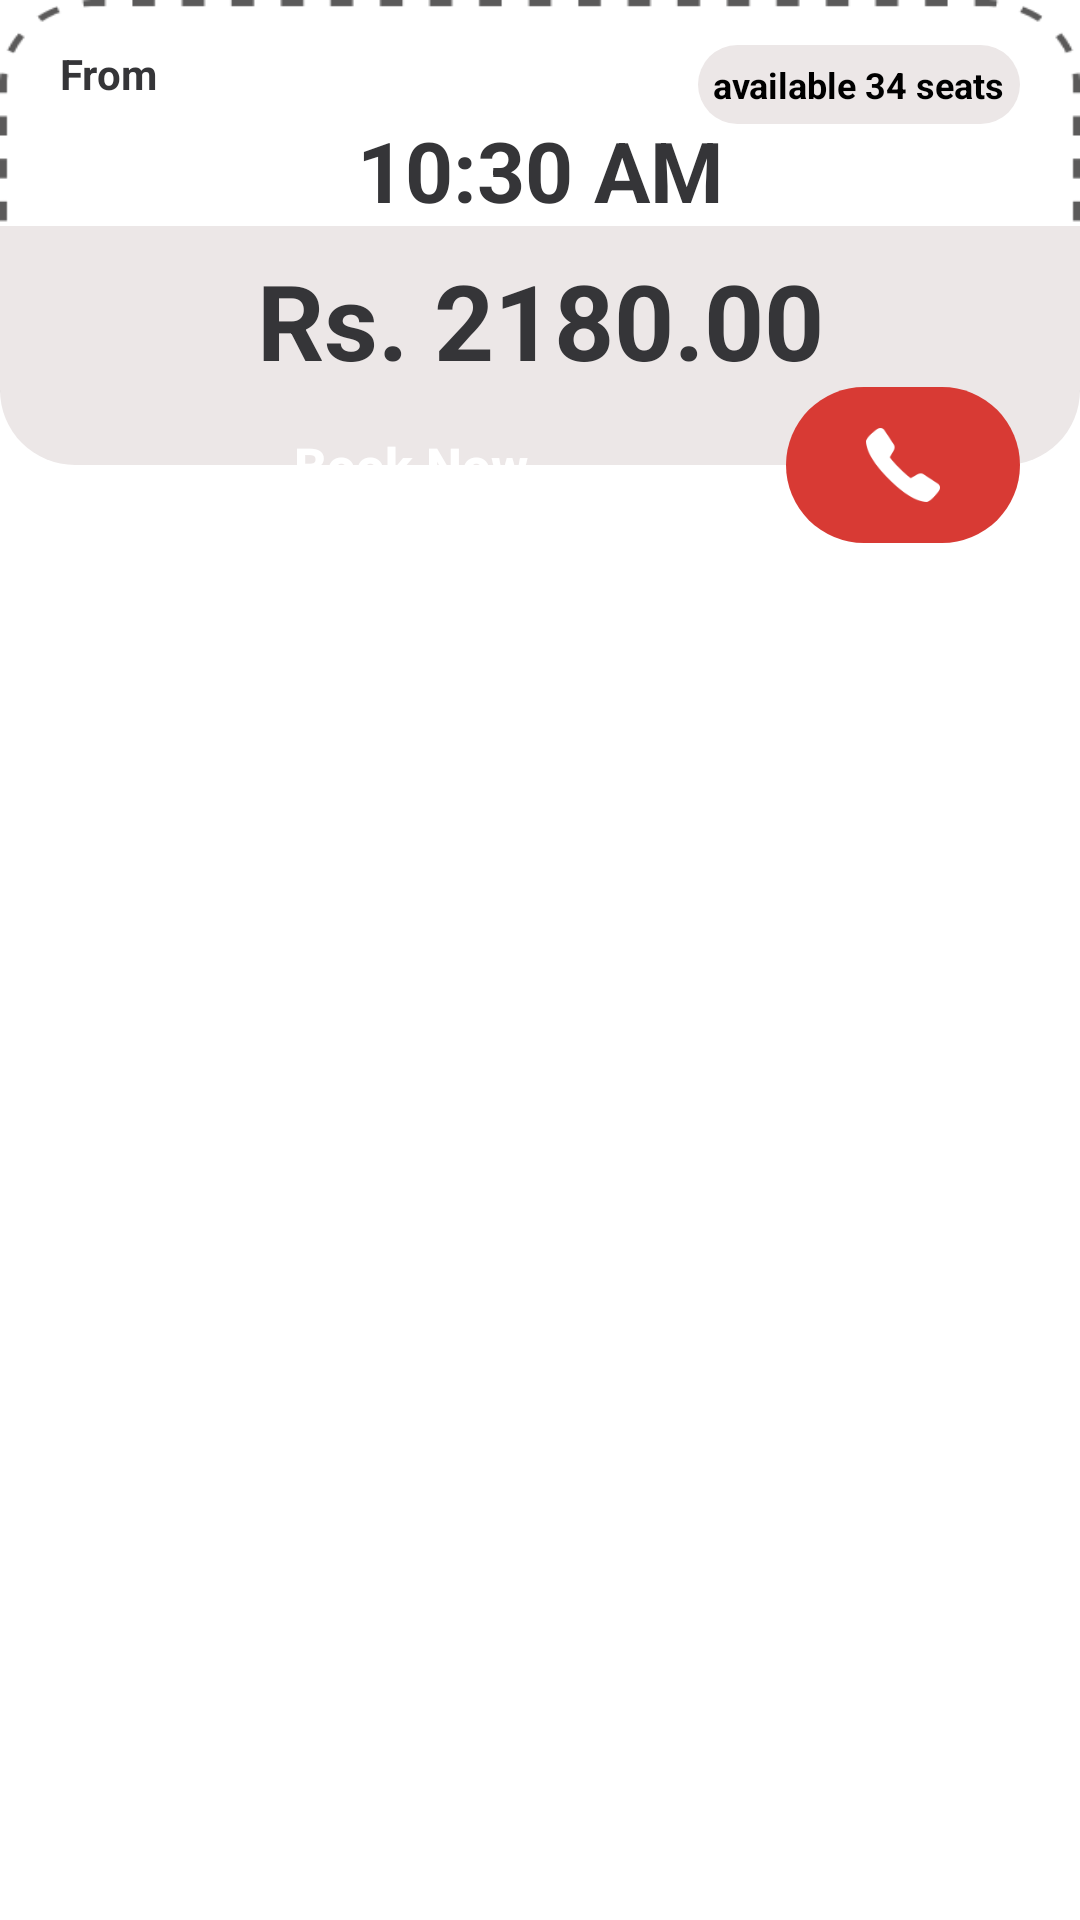

Where icons sit on this 1080*1920 app screen, as [left=x1, top=y1, right=x2, bottom=y2]:
call: [left=786, top=387, right=1020, bottom=543]
